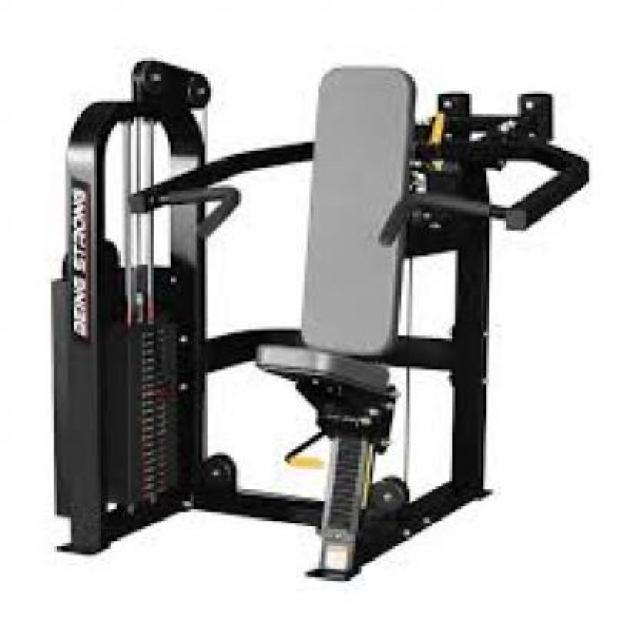shoulder press machine: (31, 31, 620, 600)
